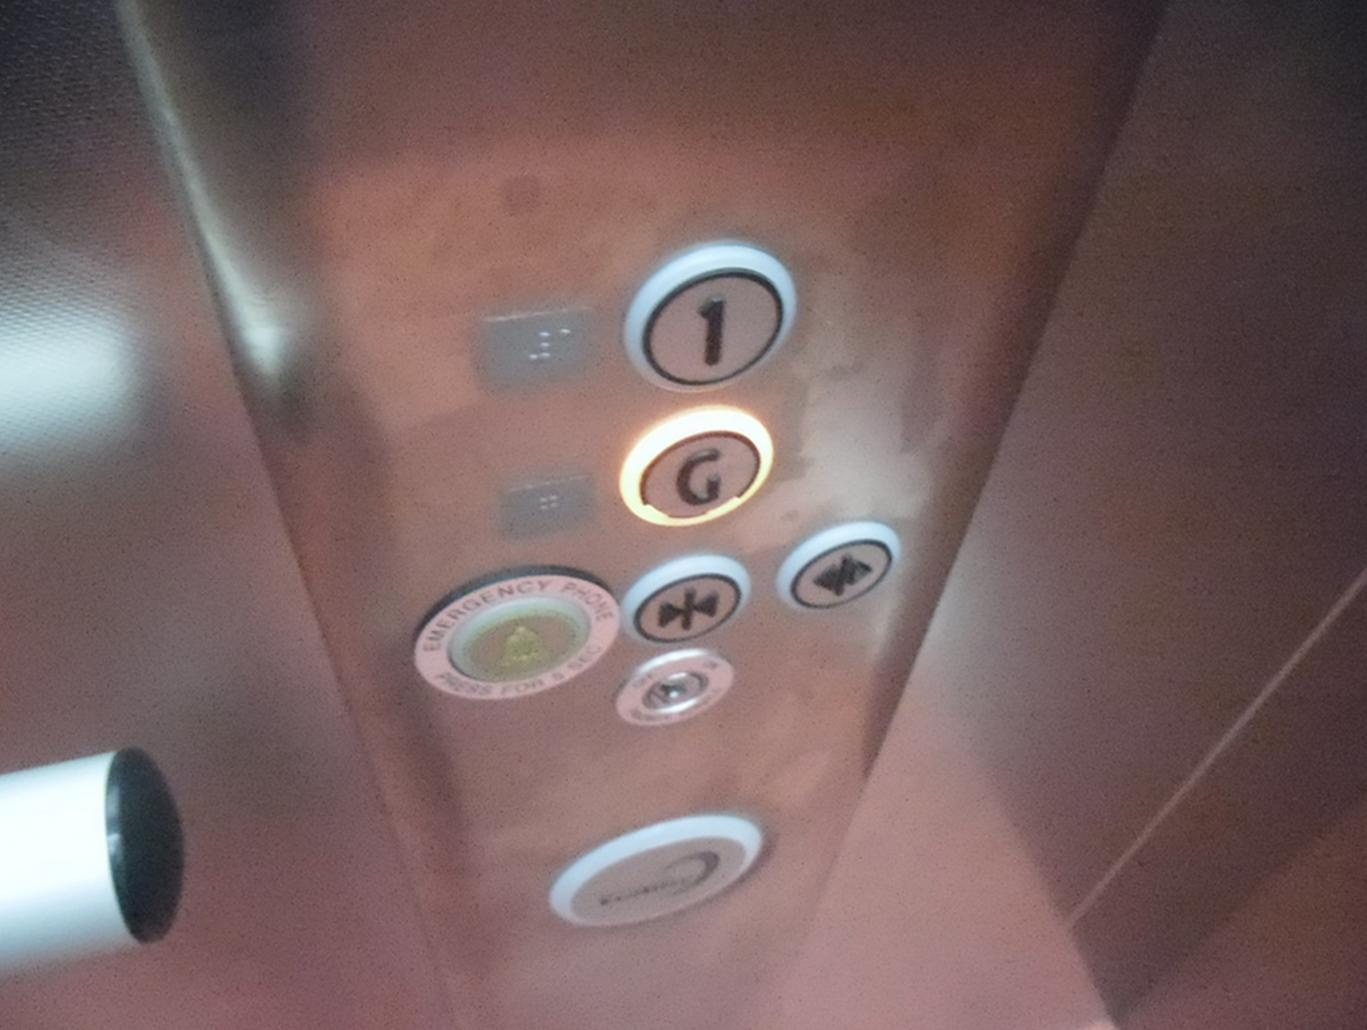1: (619, 238, 800, 395)
G: (618, 401, 778, 531)
alarm: (409, 563, 620, 701)
close: (620, 550, 752, 647)
keyhole: (612, 647, 736, 728)
open: (772, 518, 903, 617)
unknown: (544, 808, 777, 932)
